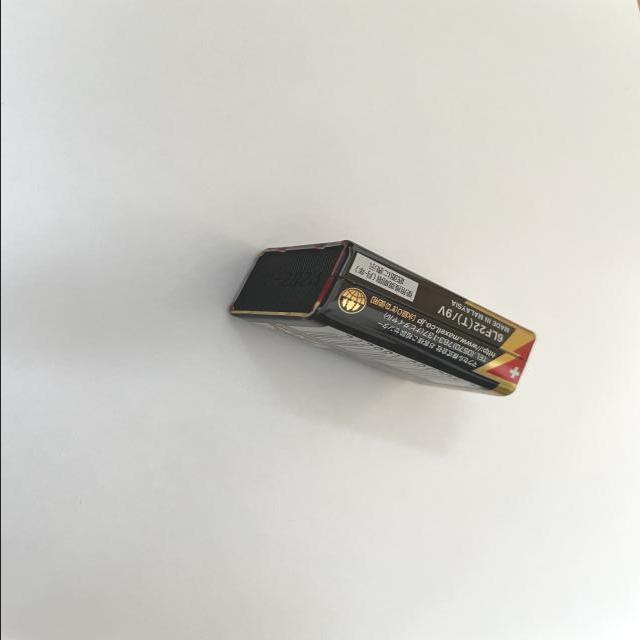9V: (227, 240, 535, 398)
